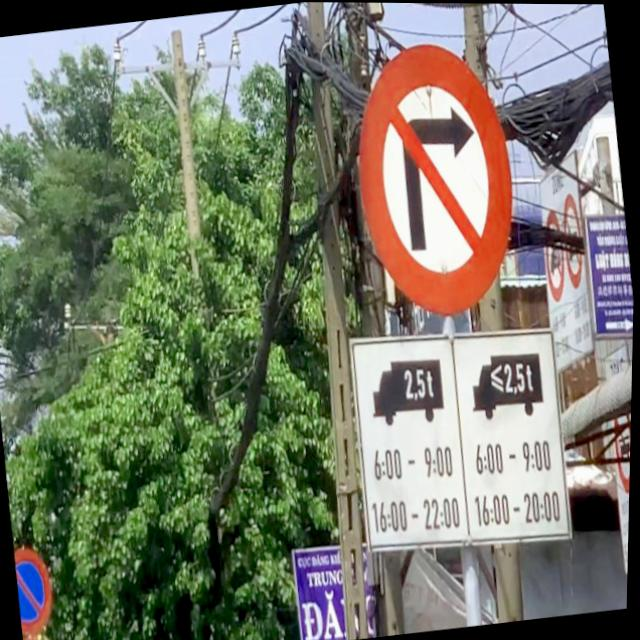Cam do xe: (14, 545, 60, 637)
Cam re phai: (342, 32, 531, 325)
